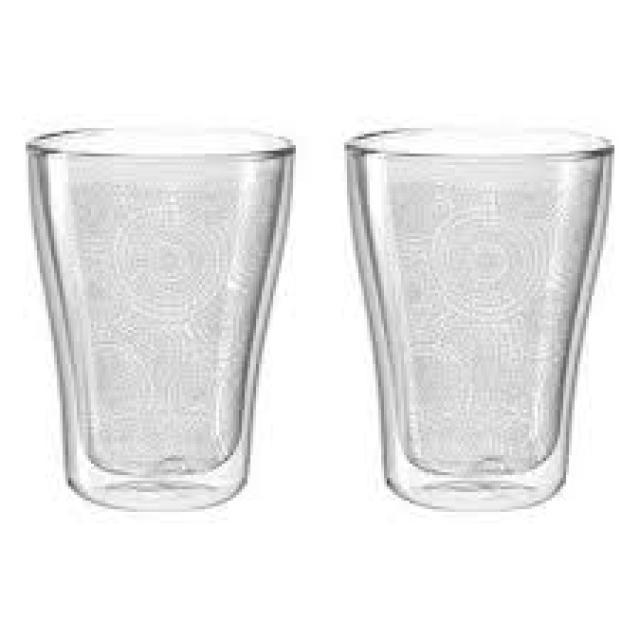Glass: (21, 115, 294, 506), (343, 125, 614, 512)
